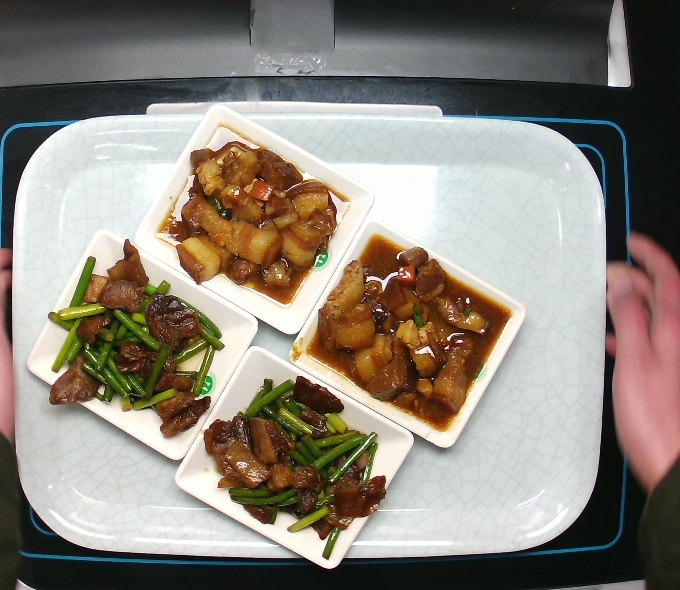wcq-HongShaoRou: (313, 243, 492, 422), (169, 137, 342, 294)
wcq-SuanMiaoChaoRou: (42, 234, 226, 440), (198, 370, 391, 563)
